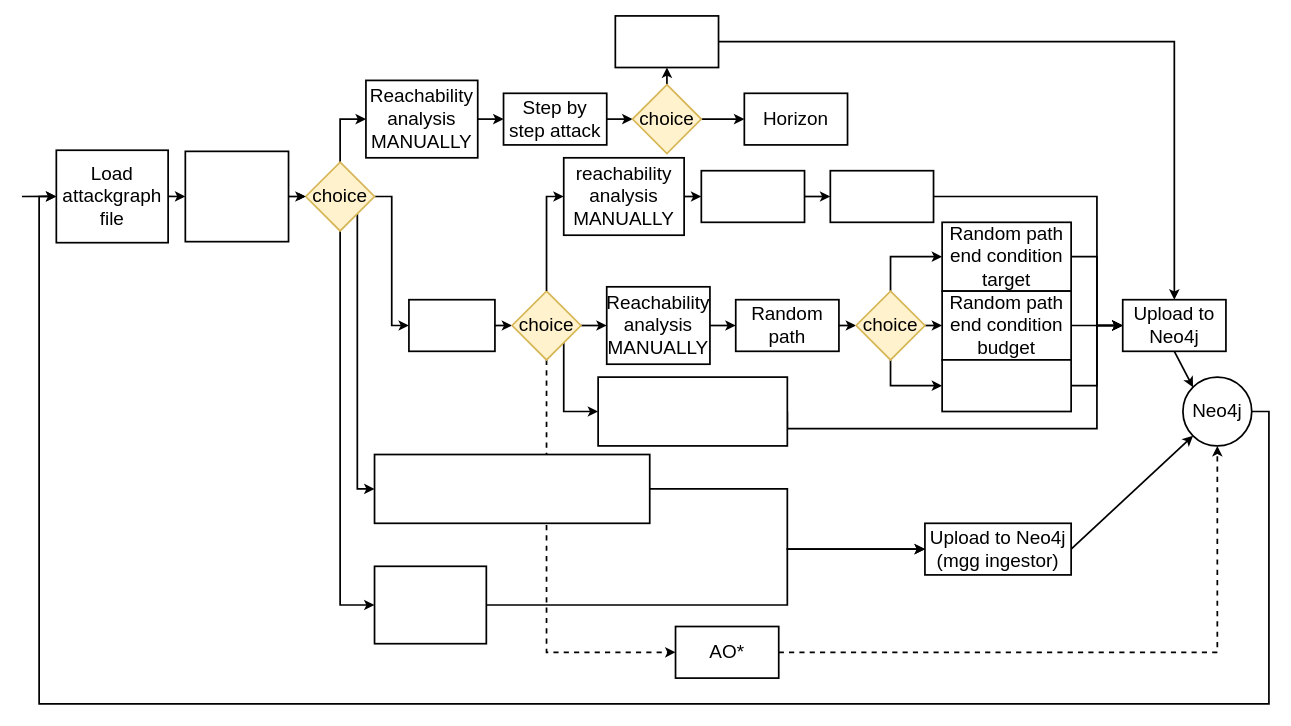
This 1291x726 diagram has some shape labels left out. The box of each missing label's shape, as (x1, y1, x2, y2) in pixels:
Action: (614, 15, 719, 68)
Attack simulation: (408, 298, 495, 352)
BFS end condition budget: (597, 376, 788, 446)
Calculate parents and index: (184, 150, 289, 242)
Dijkstra: (700, 169, 805, 223)
Random path both: (941, 359, 1072, 412)
Reachability analysis: (373, 565, 487, 644)
Reachability analysis with pruning of unreachable nodes: (373, 453, 650, 524)
Reconstruct path: (829, 169, 934, 223)
